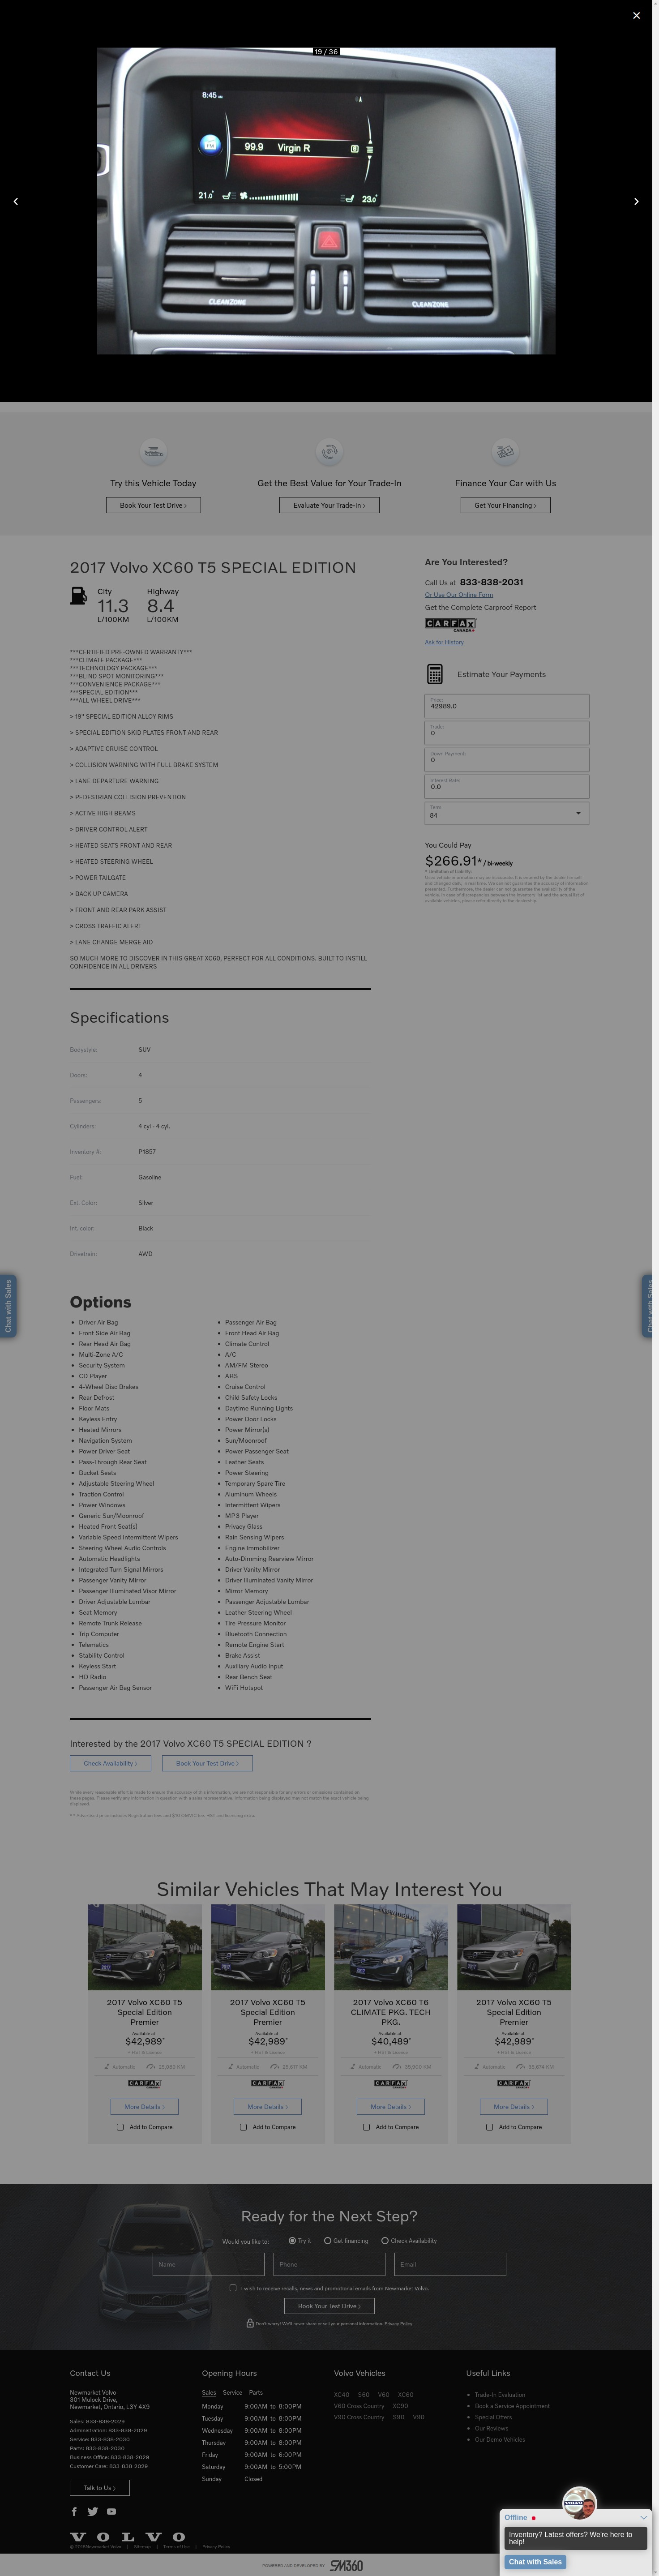car: (633, 197, 639, 207)
